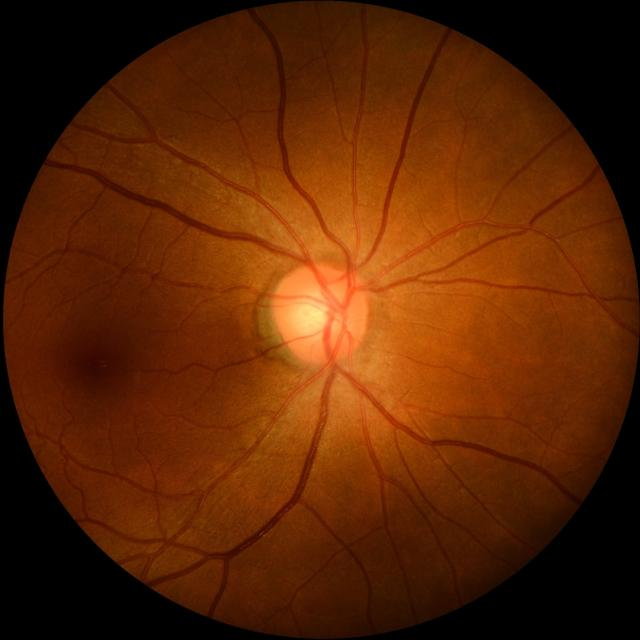OC: (294, 290, 345, 340)
OD: (272, 263, 362, 363)
